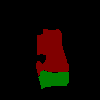gonna: (38, 70, 68, 88)
vestito: (36, 28, 69, 76)
